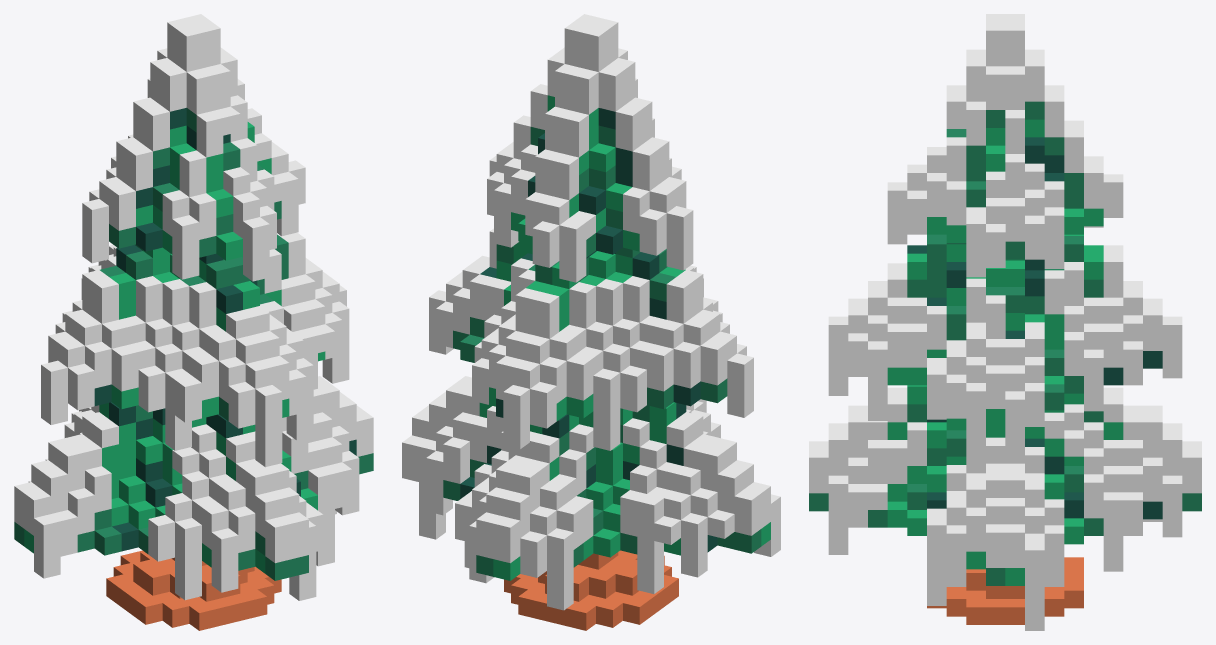
Rendered from Smol-Pine.obj.
The picture shows the model from 3 angles, left to right: view 1: azimuth 30°, elevation 25°; view 2: azimuth 150°, elevation 25°; view 3: azimuth 270°, elevation 25°; orthographic projection.
Size of the model in its own units: 2 by 3.2 by 2.
Materials: 1 (1 with a texture image).
